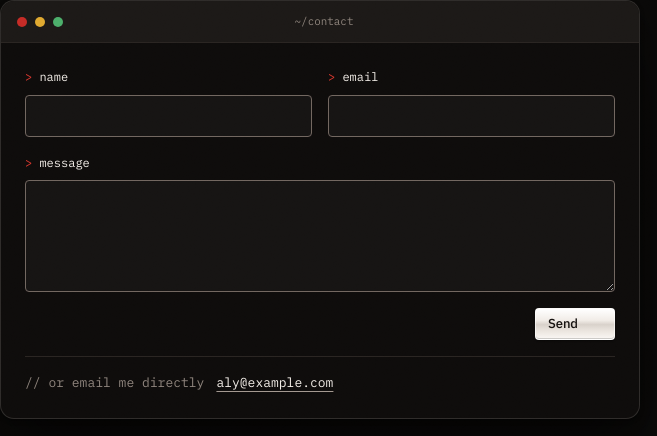
Scenario: ContactForm › reports a failed send and keeps the message
Type "ada@example.com" into the field labelled "> email" at (472, 116), box [328, 95, 615, 137]
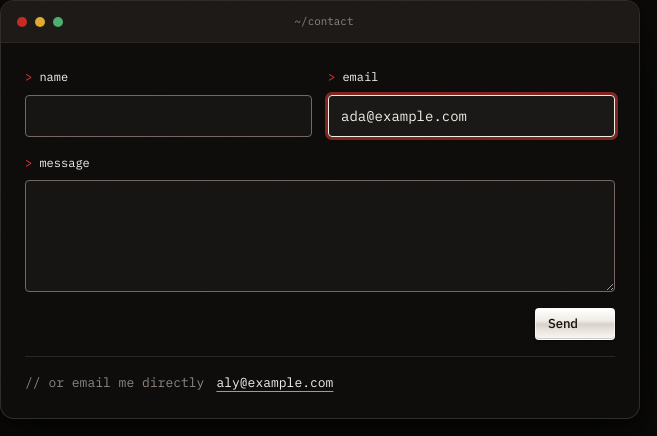
Type "Hello" into the text box labelled "> message" at (320, 236), box [25, 180, 615, 292]
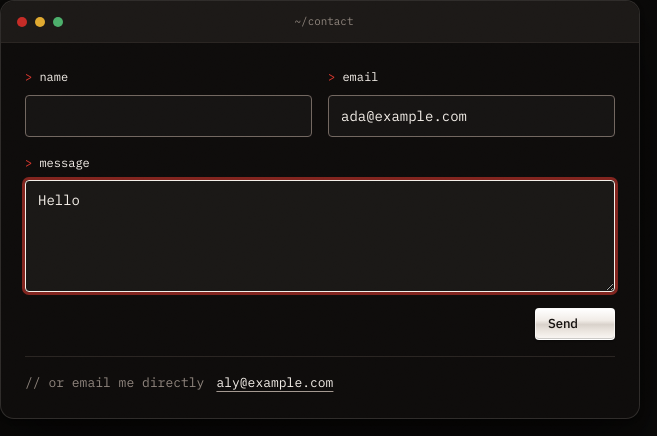
Click the button "Send" at (575, 324), box [535, 308, 615, 340]
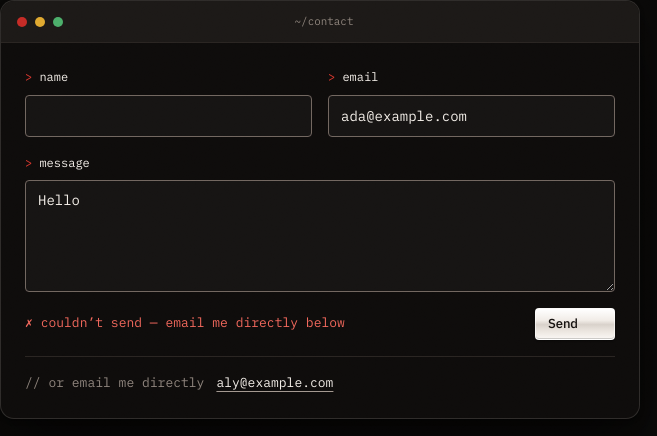
Expected: the text "✗ couldn’t send — email me directly below" is shown, [25, 313, 345, 334]
